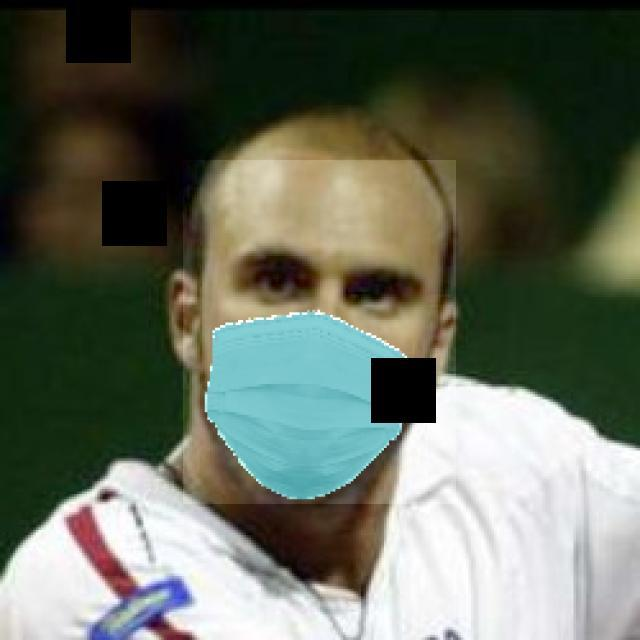surgical: (183, 160, 456, 504)
